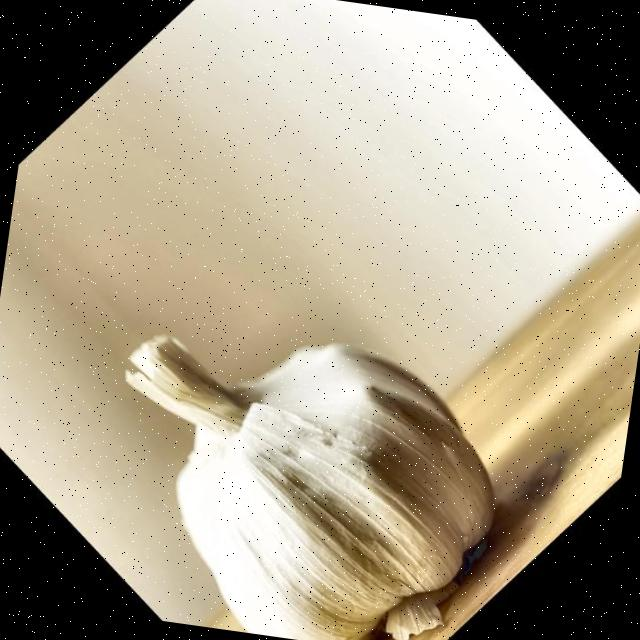garlic: (127, 335, 493, 640)
